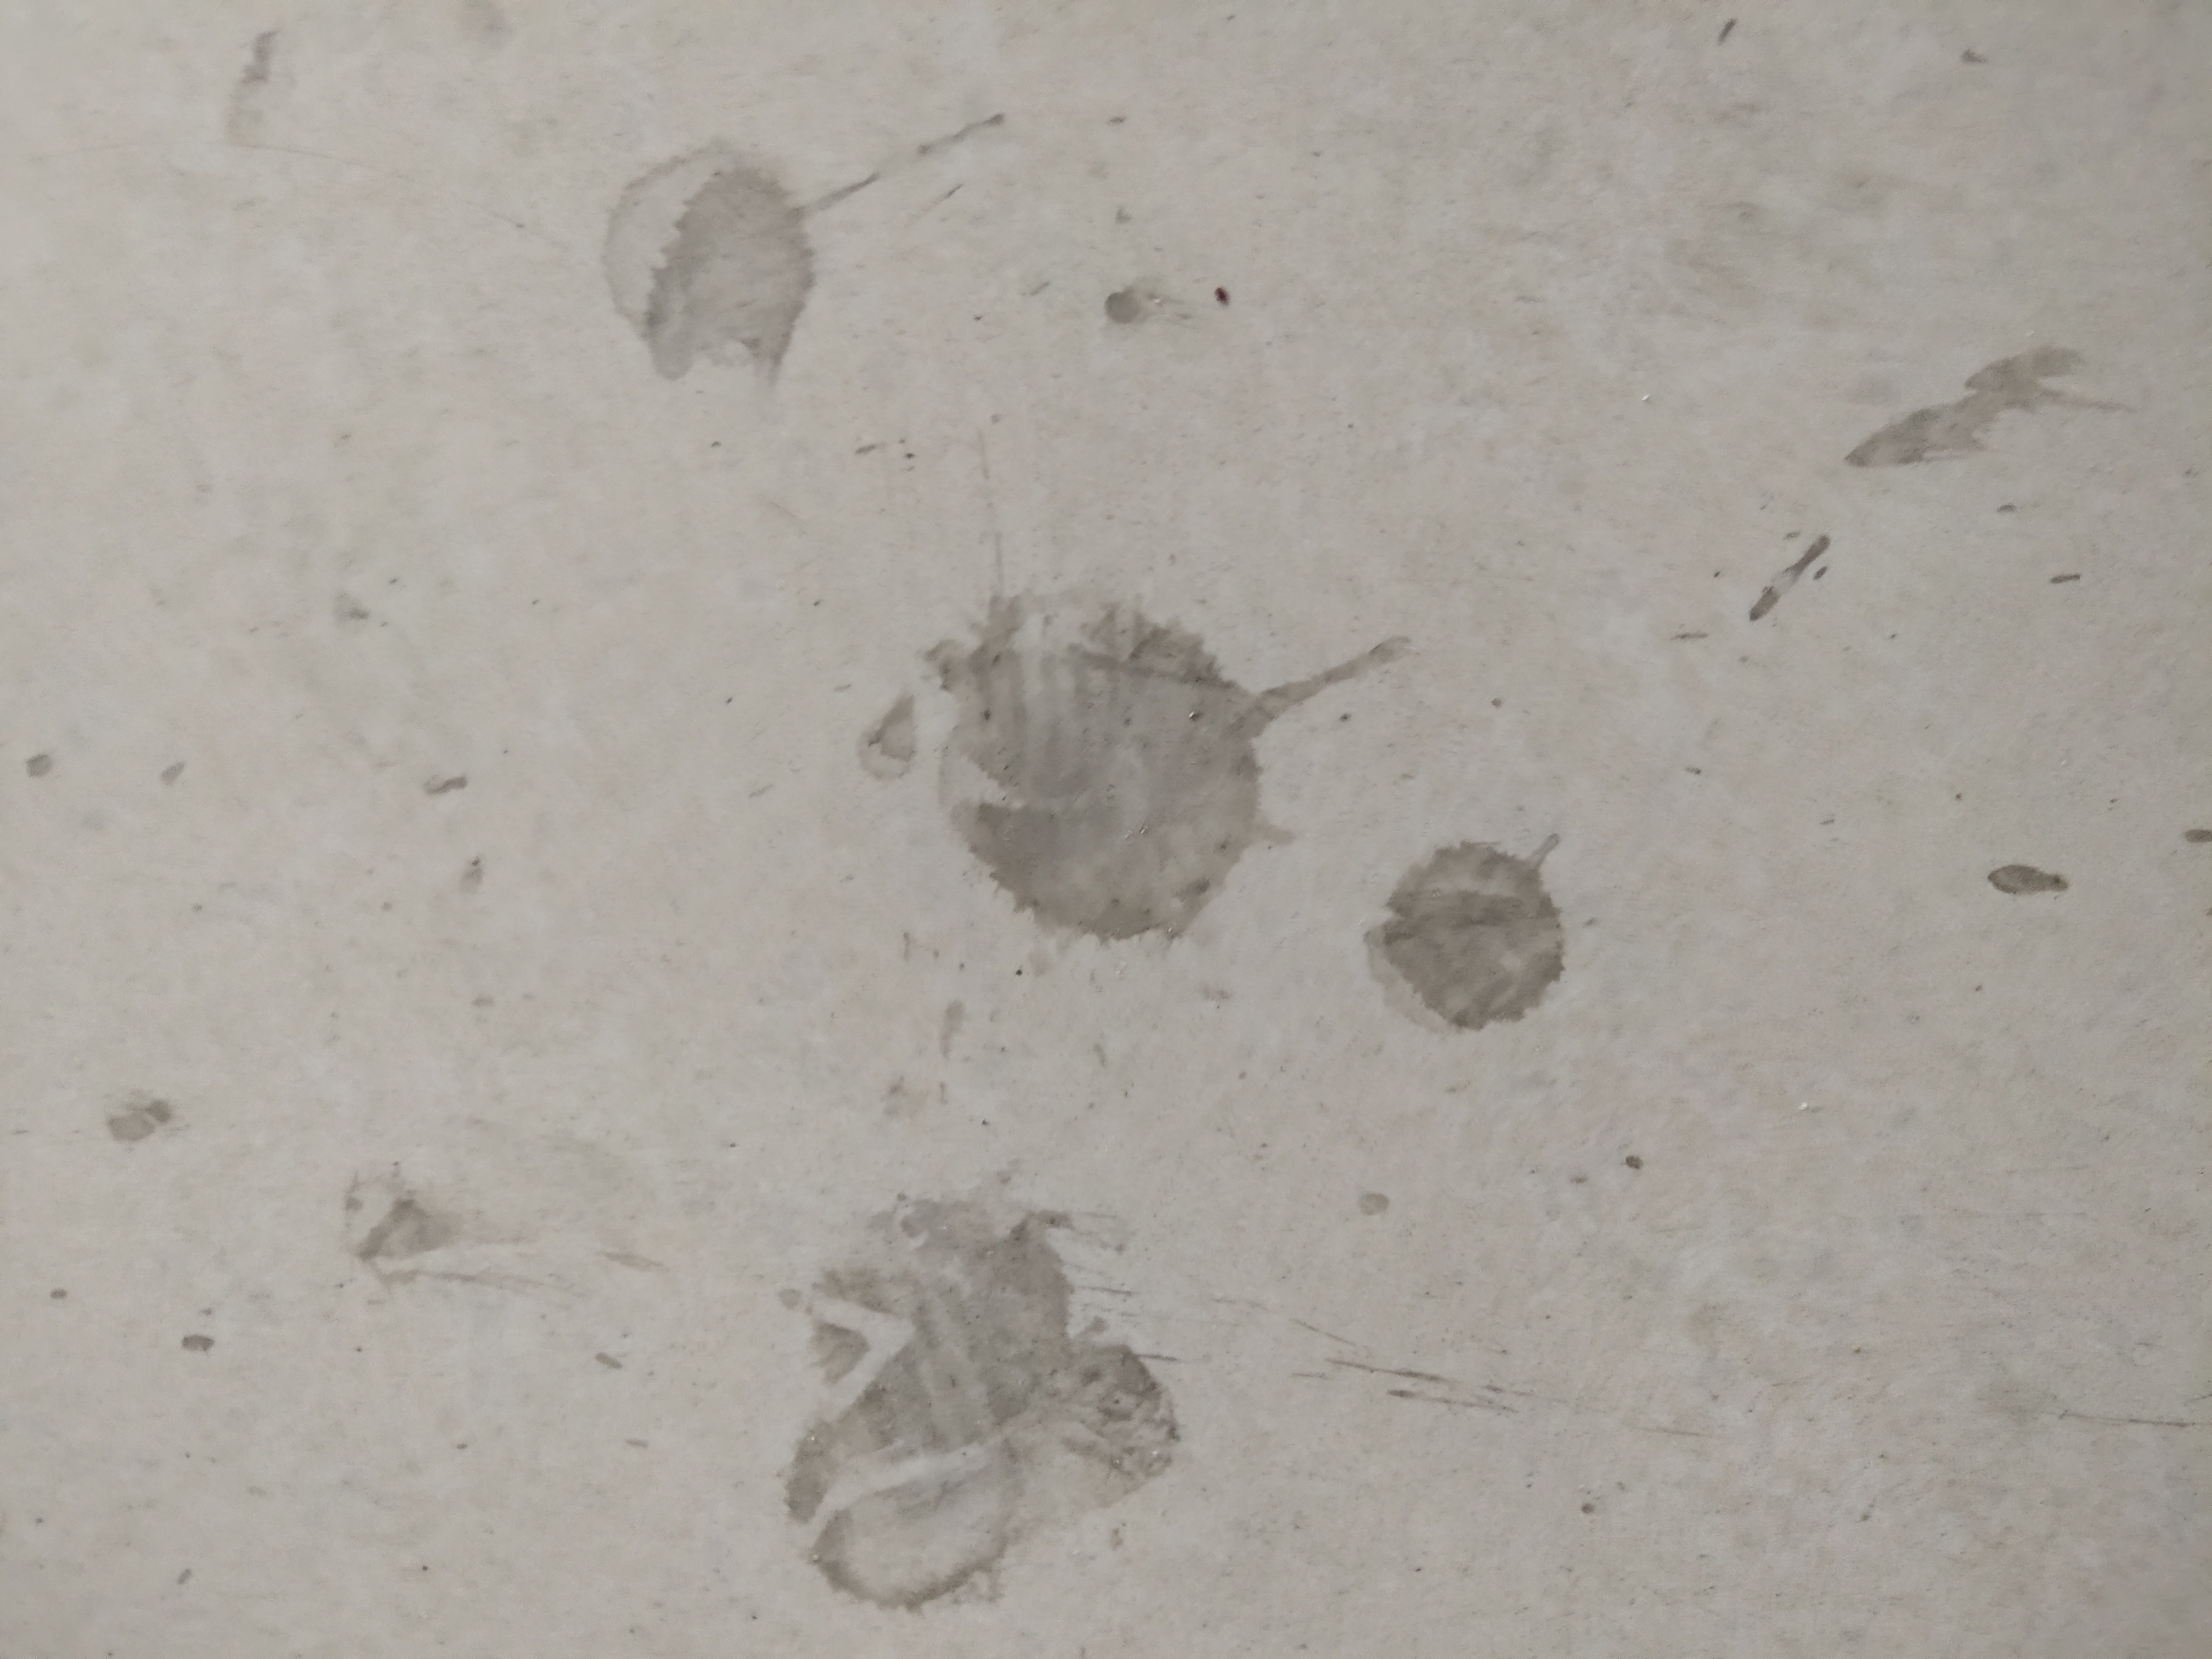grey spot: (779, 1171, 1184, 1617), (859, 610, 1407, 939), (606, 112, 1005, 380), (1843, 347, 2137, 469), (1372, 833, 1559, 1023)
